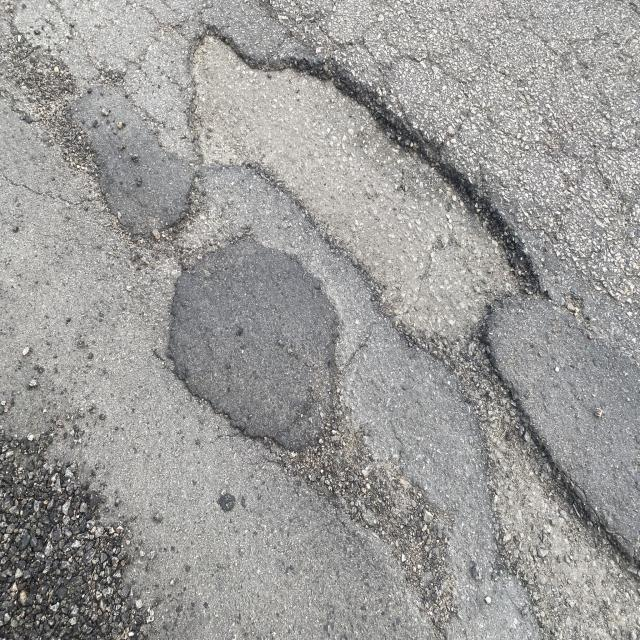pothole: (149, 13, 563, 383)
